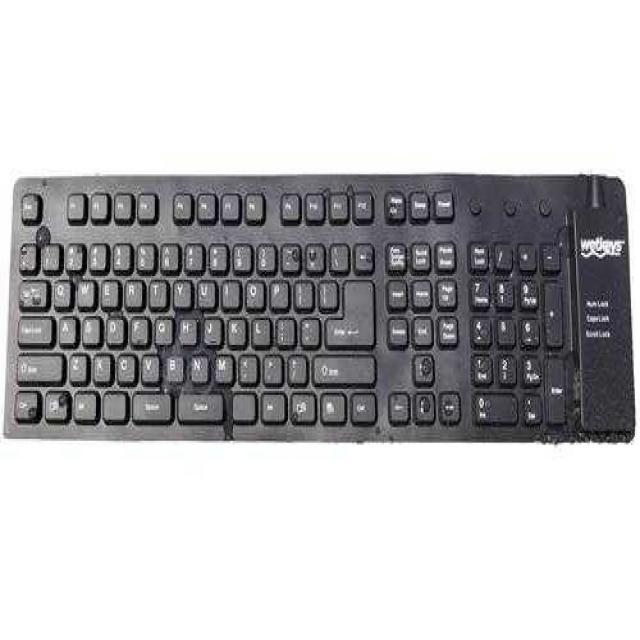keyboard: (8, 174, 574, 441)
